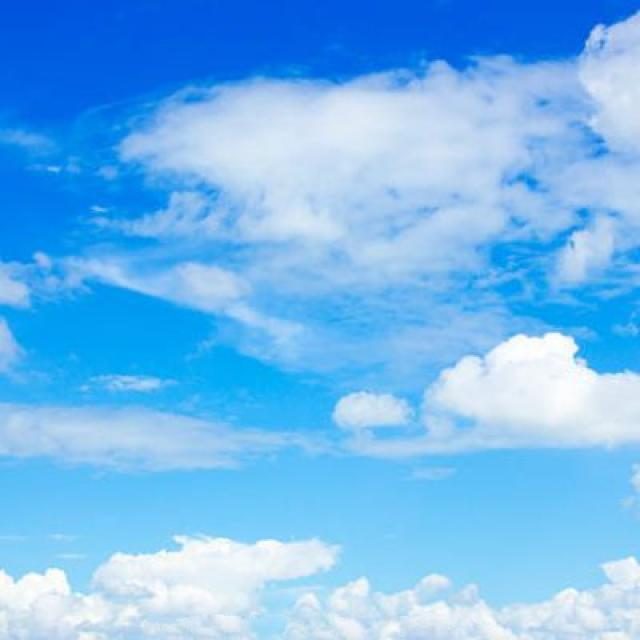Cu: (1, 92, 640, 605)
